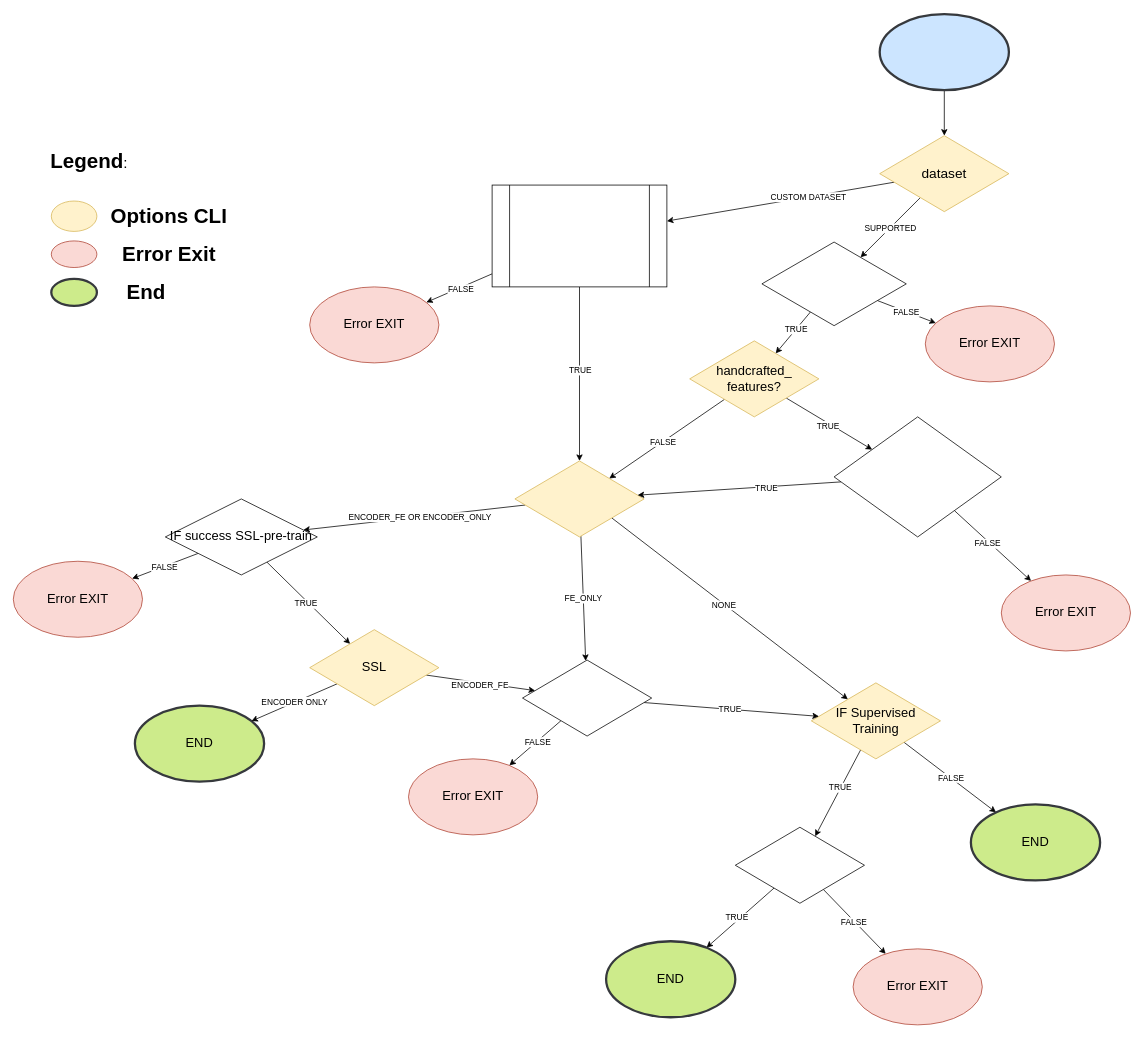
Image size: 1144x1038. Some labels were removed from this diagram. The shapes that lost their labels are listed below. From the top down, each one's centre as x and y in pixels, then its label:
the point at 944,52: START
the point at 579,235: Requires dataset in the format of Features + labels provided by user
the point at 833,283: IF success Pre-processing
the point at 917,476: IF success hand-crafted features extraction
the point at 579,498: SSL?
the point at 587,697: IF success SSL-feature-extraction
the point at 799,864: IF success ED-training
